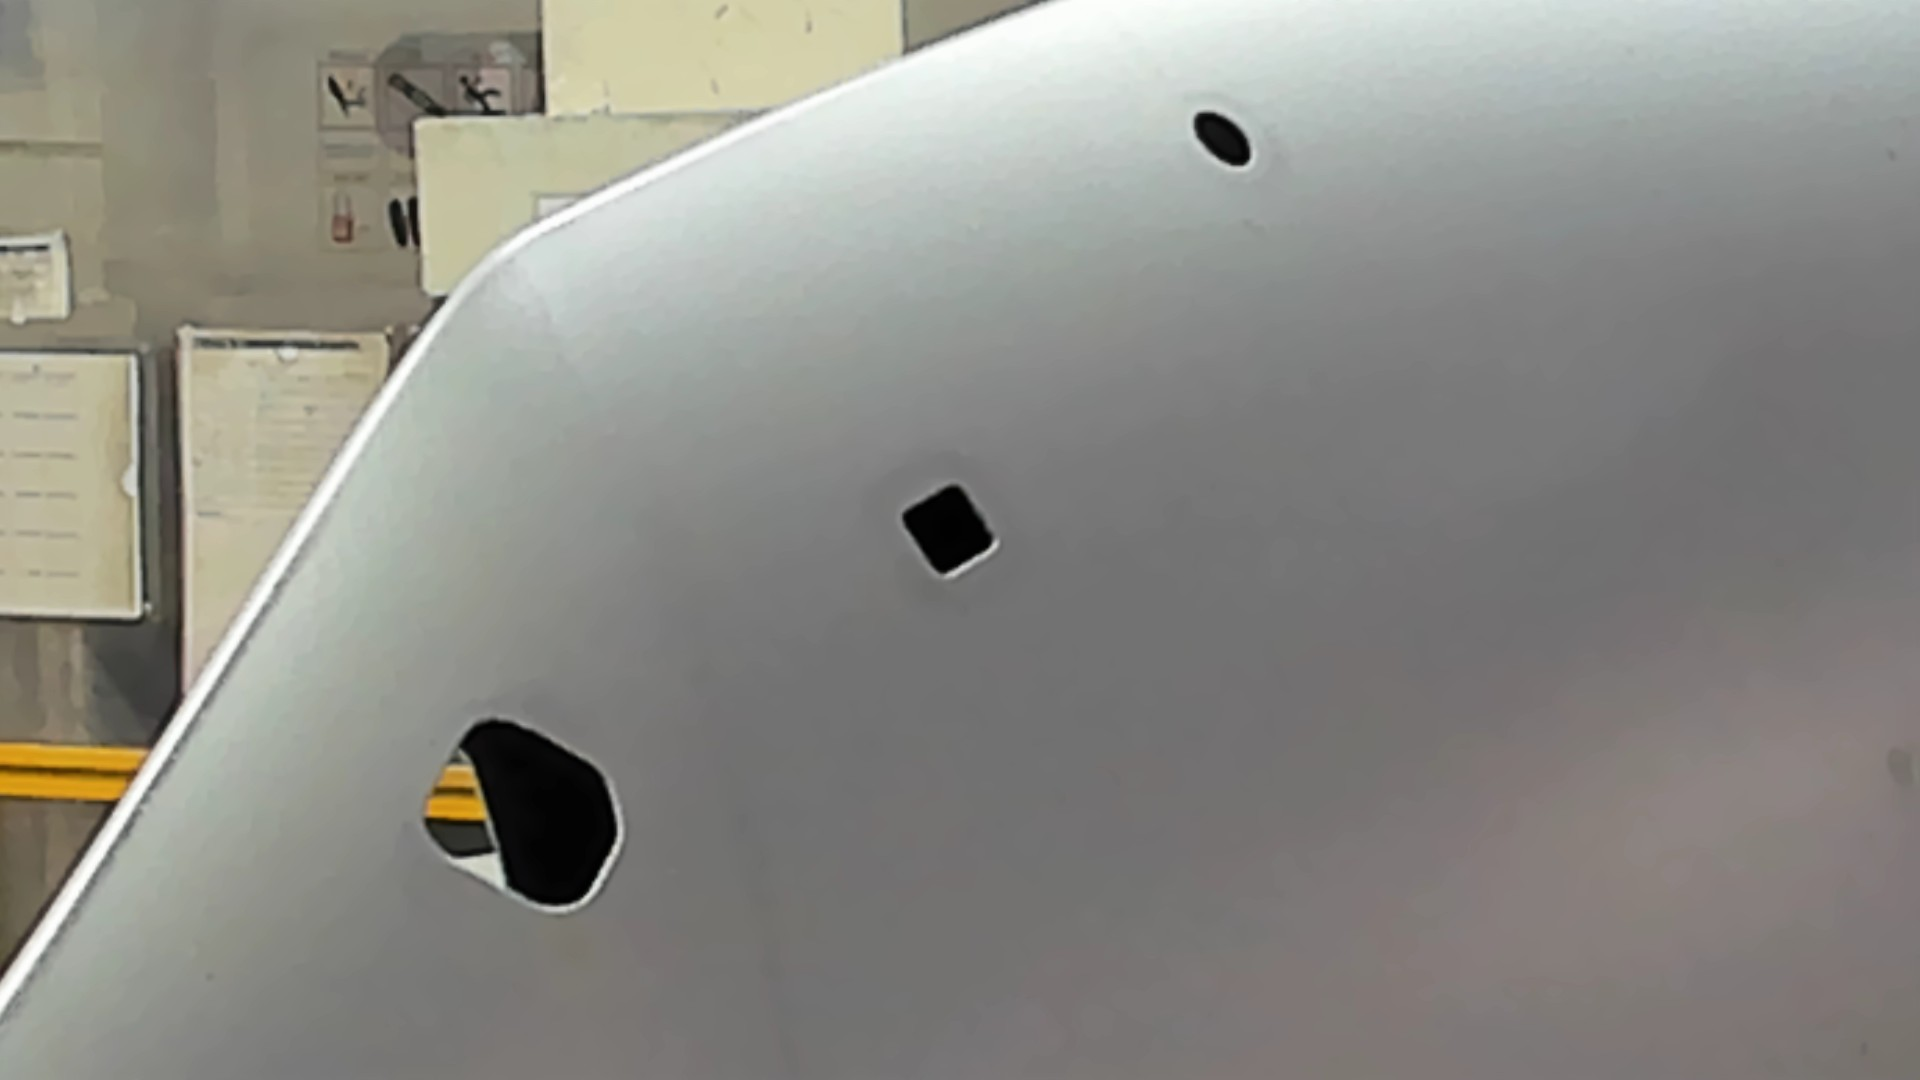chico: (1187, 104, 1259, 173)
grande: (415, 709, 630, 916)
mediano: (893, 473, 1004, 588)
